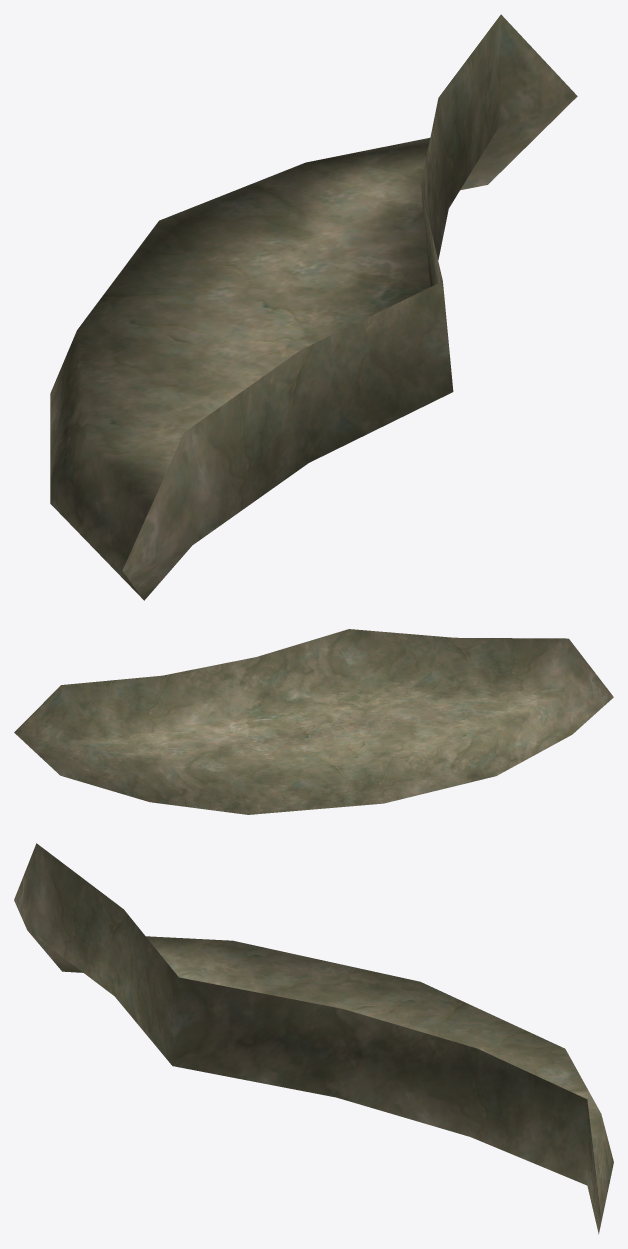
Rendered from EKH_THRONE_PS_TH_OBJECT16.fbx.
The picture shows the model from 3 angles, top to bottom: view 1: azimuth 30°, elevation 25°; view 2: azimuth 150°, elevation 25°; view 3: azimuth 270°, elevation 25°; orthographic projection. The views are drawn at different scales.
Visible parts, largest first — view 1: EKH_THRONE_PS_TH_OBJECT16; view 2: EKH_THRONE_PS_TH_OBJECT16; view 3: EKH_THRONE_PS_TH_OBJECT16.
Boxes of the visible parts, box(x1,y1,x2,y2) form: EKH_THRONE_PS_TH_OBJECT16: box(50, 14, 577, 600); EKH_THRONE_PS_TH_OBJECT16: box(14, 629, 613, 814); EKH_THRONE_PS_TH_OBJECT16: box(14, 843, 613, 1234).
Size of the model in its own units: 35351 by 7123 by 28142.
1 material, 1 textured.
